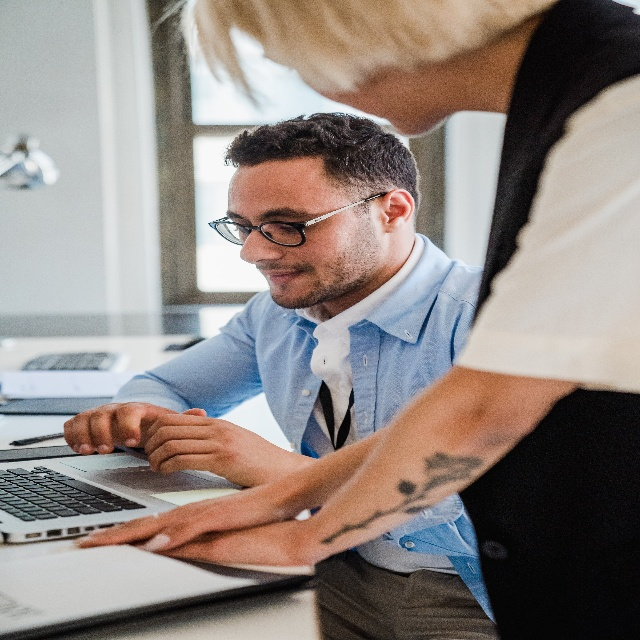Gafas: (208, 191, 387, 246)
Sin_guantes: (78, 466, 296, 552), (145, 418, 281, 488), (63, 402, 206, 455), (166, 519, 309, 567)
